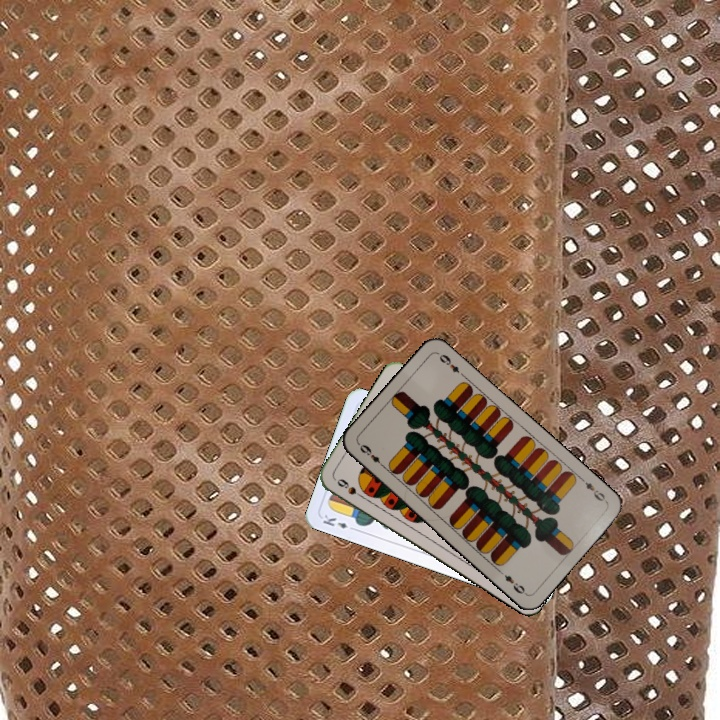E9: (355, 440, 388, 471), (577, 474, 610, 505)
EK: (319, 510, 359, 533)
S9: (333, 475, 368, 502)
